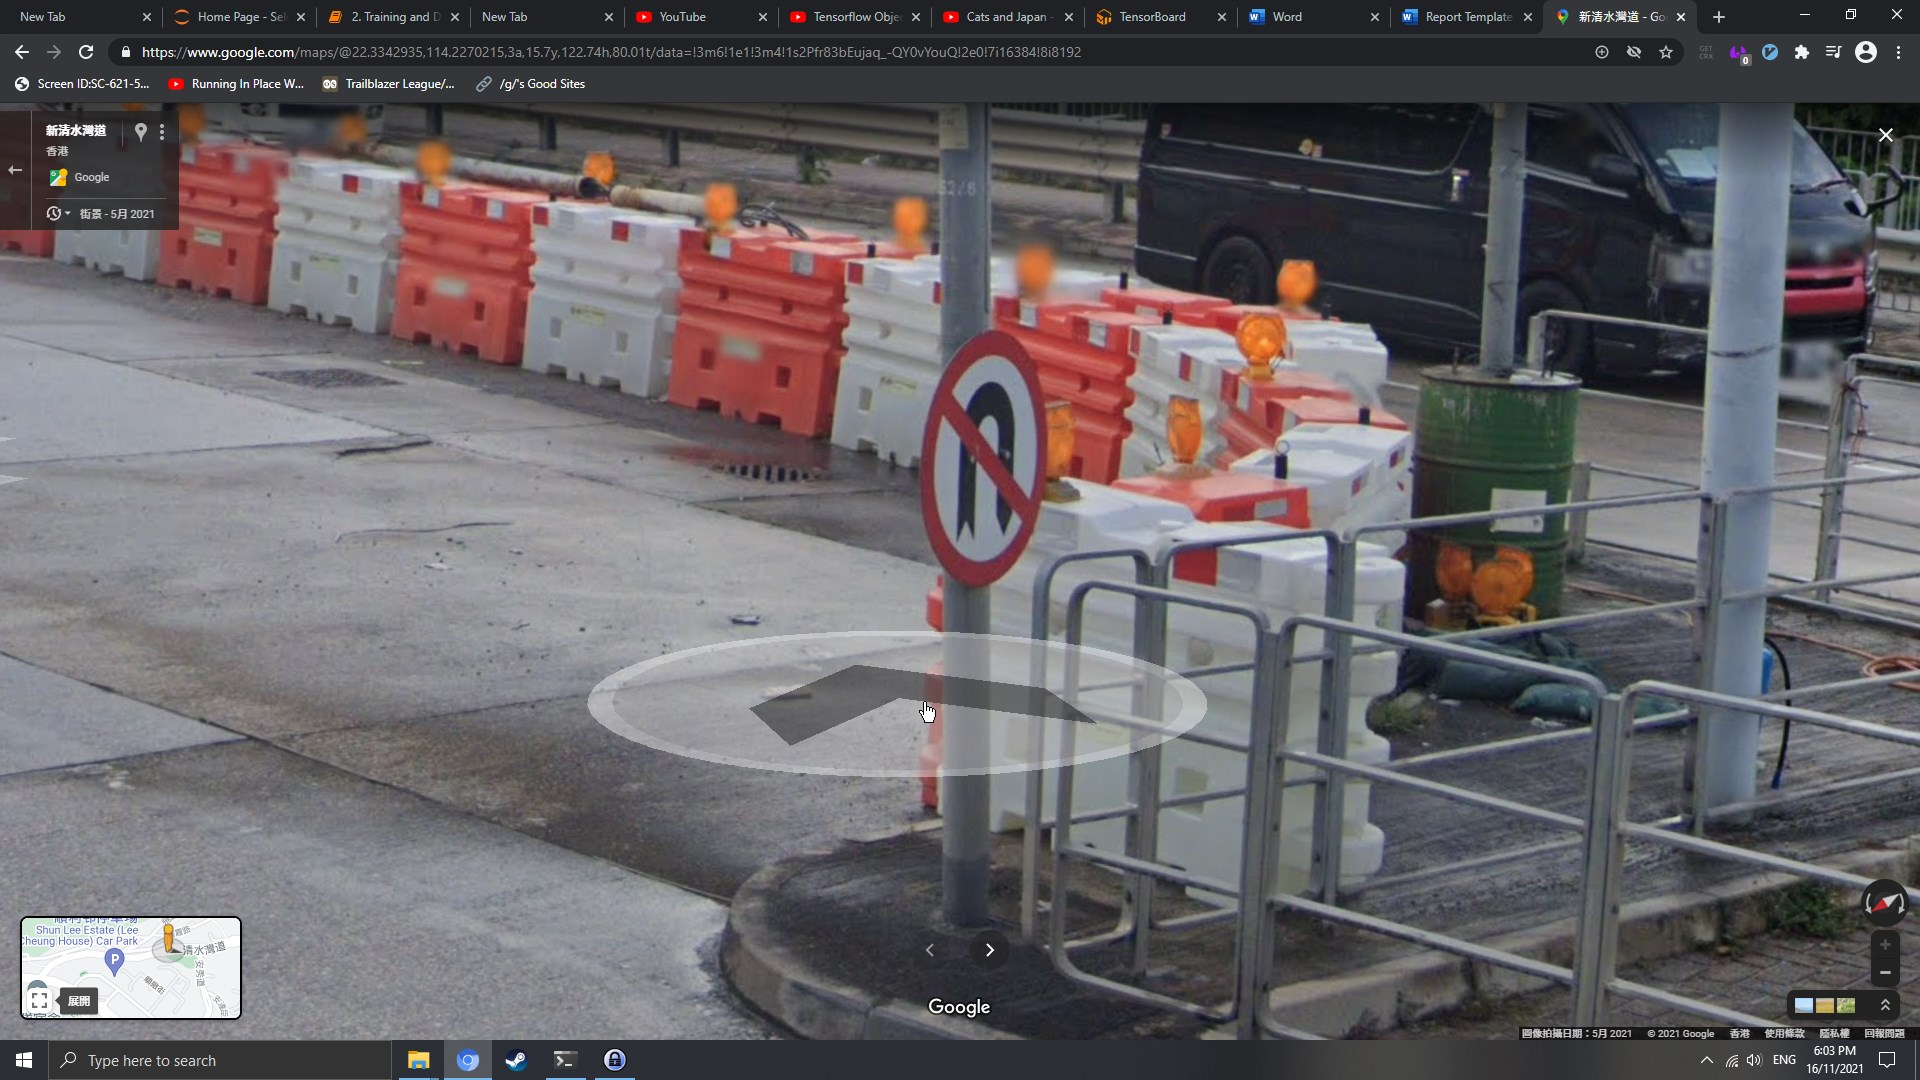NoUTurn: (918, 328, 1046, 585)
